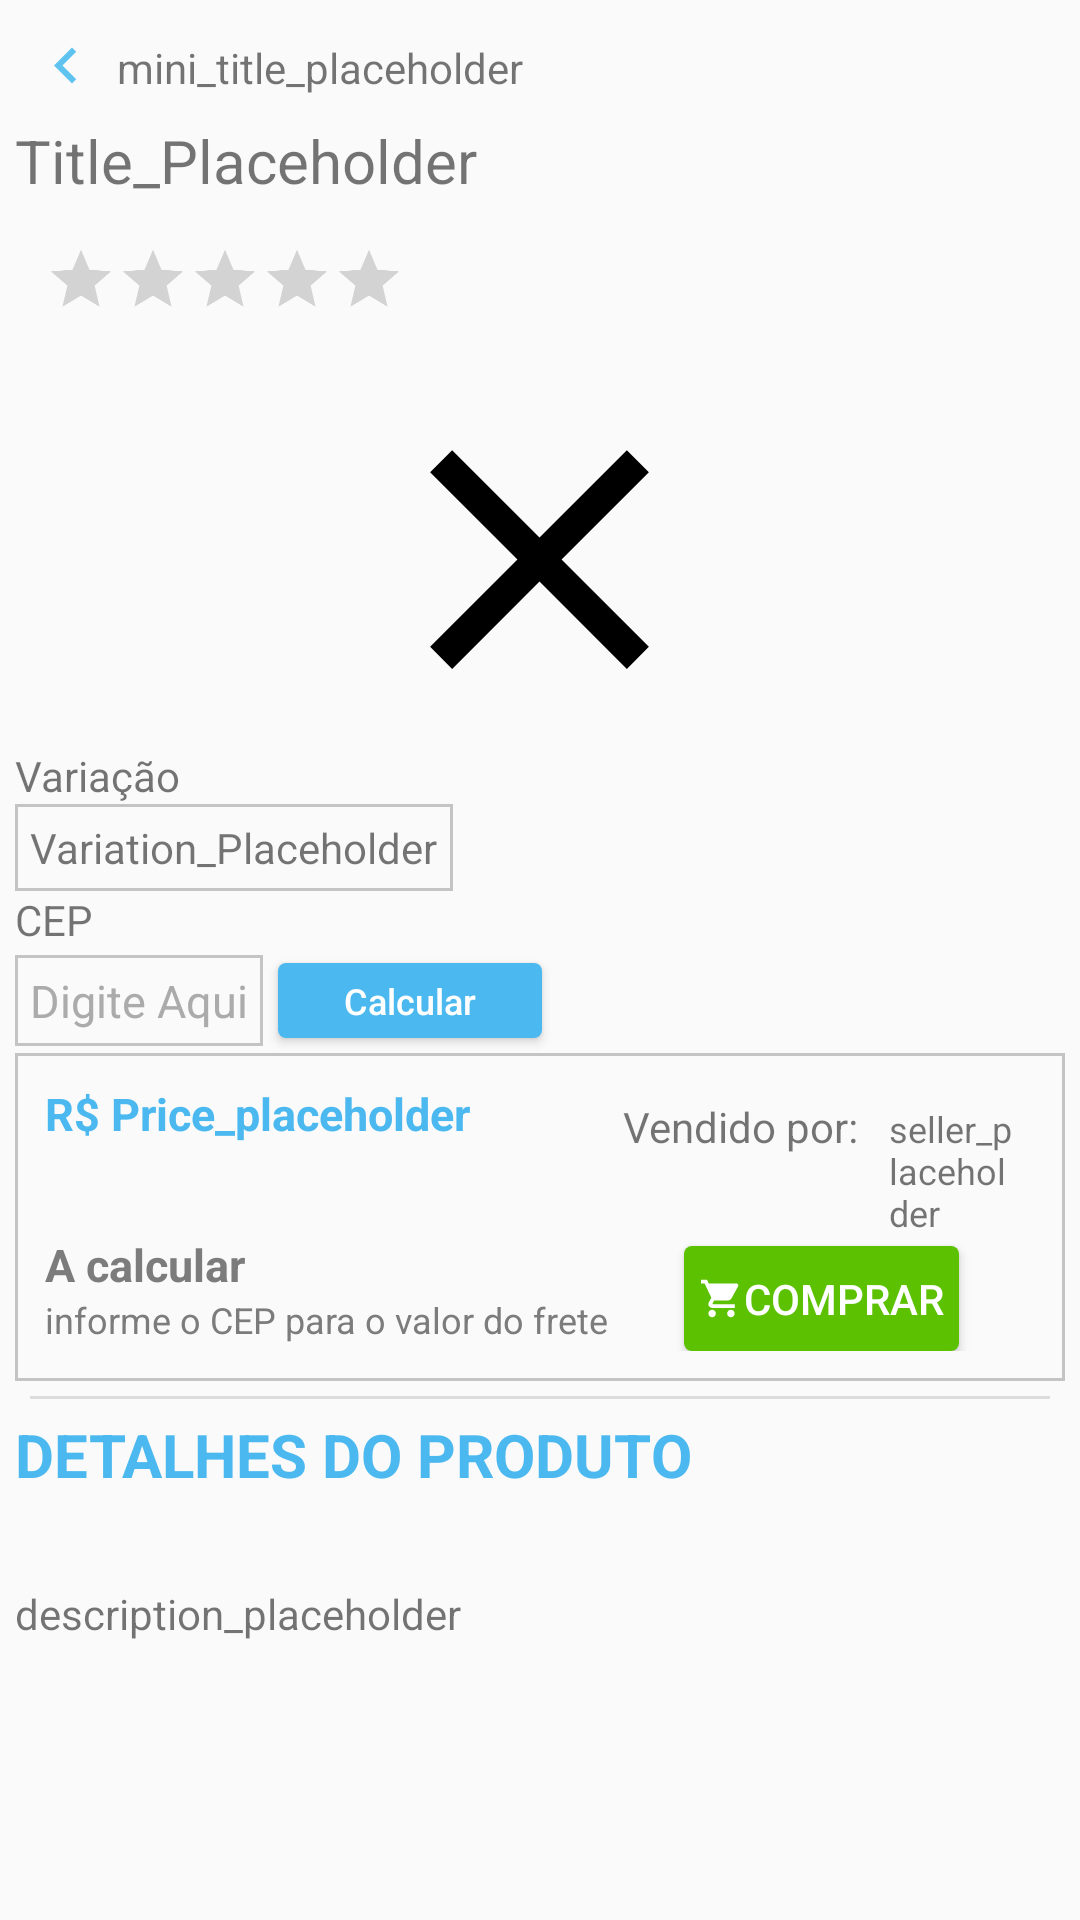

Named icons in this screenshot (1080×1920) and their bounding boxes, (x1, y1, x2, y2):
clear: (430, 450, 649, 669)
keyboard arrow left: (54, 48, 76, 83)
